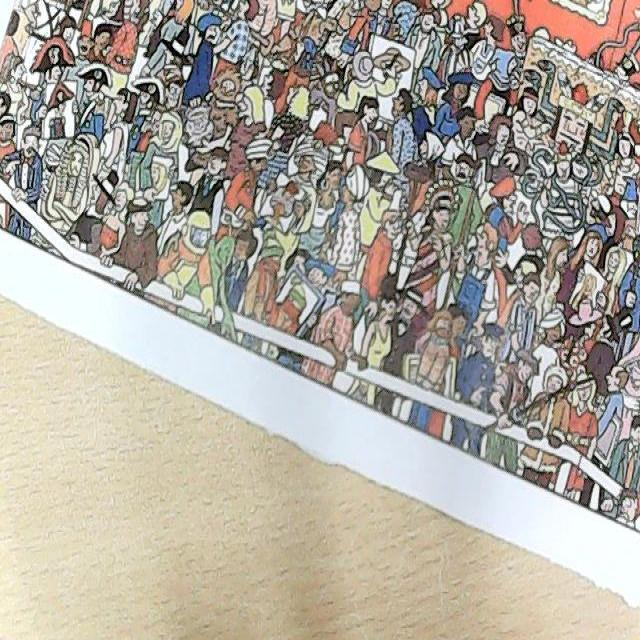waldo: (163, 67, 184, 113)
